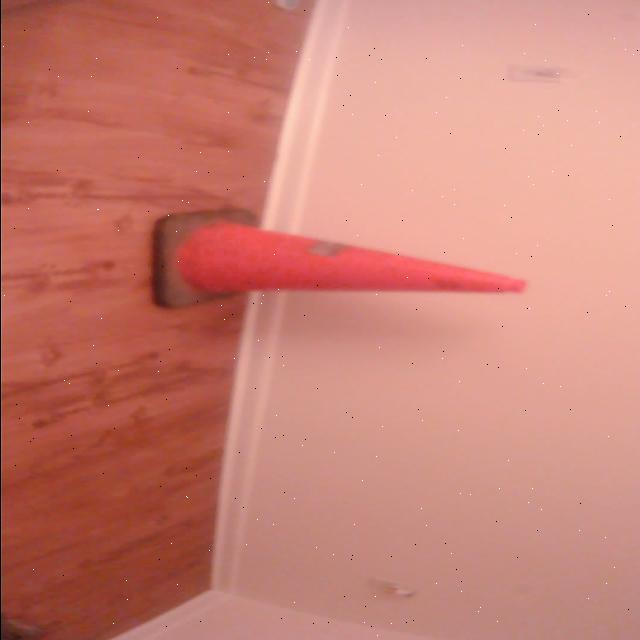traffic cone: (144, 207, 533, 316)
